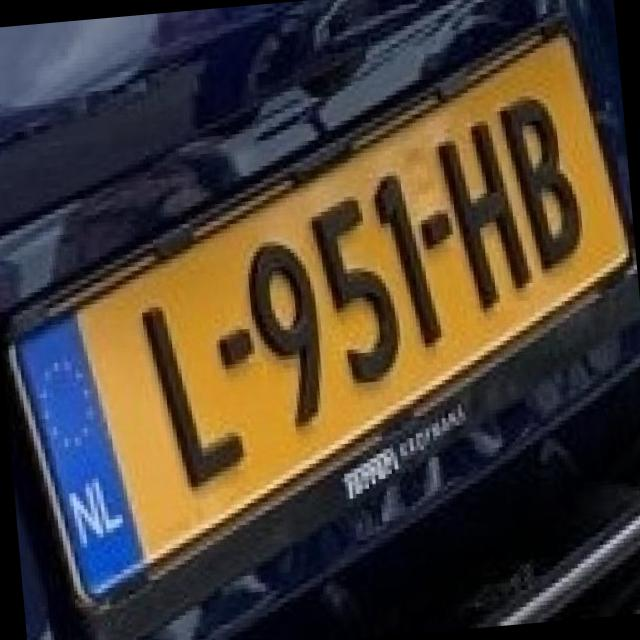1: (354, 155, 449, 356)
2: (427, 397, 640, 630)
5: (290, 171, 410, 391)
9: (222, 220, 336, 436)
B: (480, 74, 596, 273)
H: (418, 100, 532, 316)
L: (116, 278, 256, 496)
